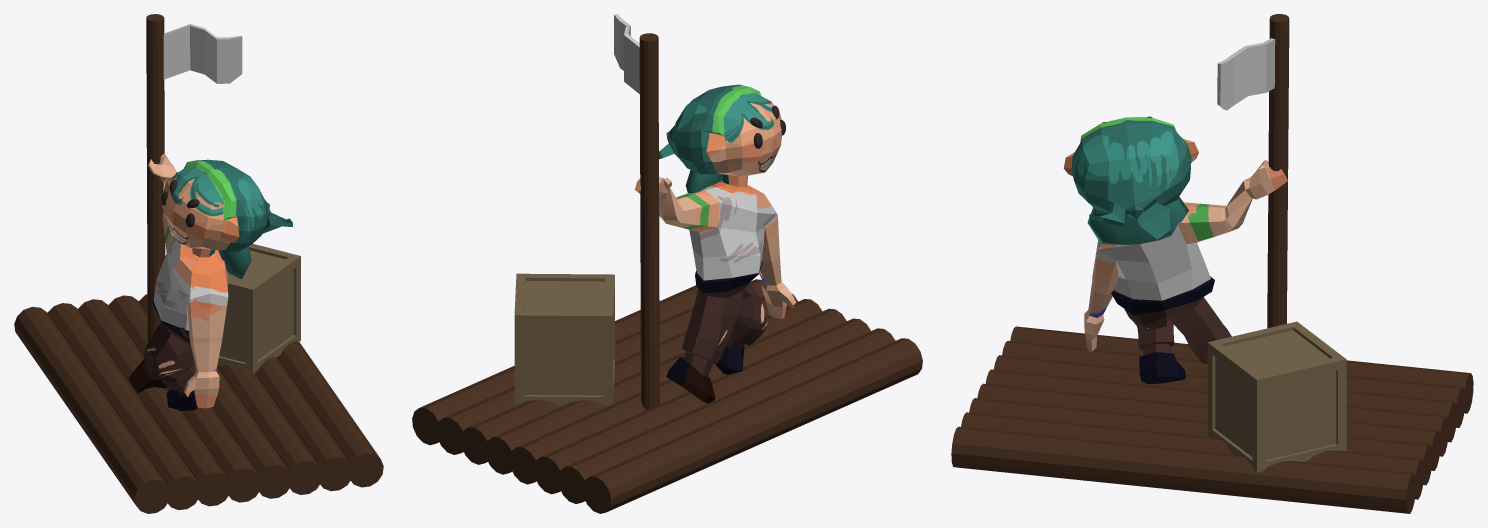
Rendered from raft  trader.fbx.
3 renders of one model, left to right at view 1: azimuth 30°, elevation 25°; view 2: azimuth 150°, elevation 25°; view 3: azimuth 270°, elevation 25°, orthographic. The views are drawn at different scales.
Parts seen in each view (by area): view 1: trader; view 2: trader; view 3: trader.
Boxes of the visible parts, left/top/right/bottom form: trader: left=14, top=14, right=383, bottom=513; trader: left=412, top=14, right=922, bottom=513; trader: left=951, top=14, right=1473, bottom=513.
Size of the model in its own units: 589 by 693 by 794.
1 material, 1 textured.
